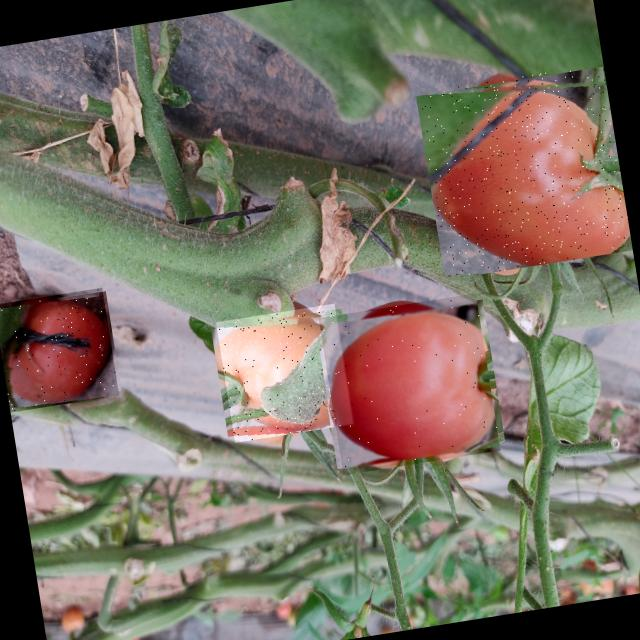Ripe Tomato: (418, 63, 632, 280), (318, 294, 501, 476), (216, 304, 354, 442), (0, 287, 119, 412)
